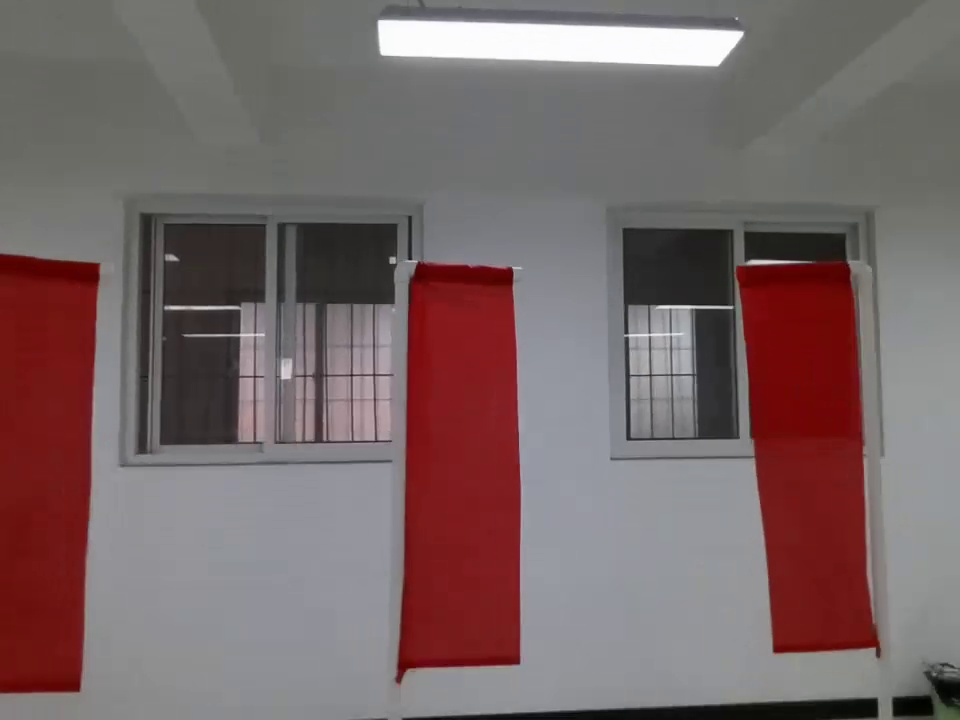qi: (725, 249, 902, 669), (385, 253, 537, 696), (1, 244, 89, 706)
